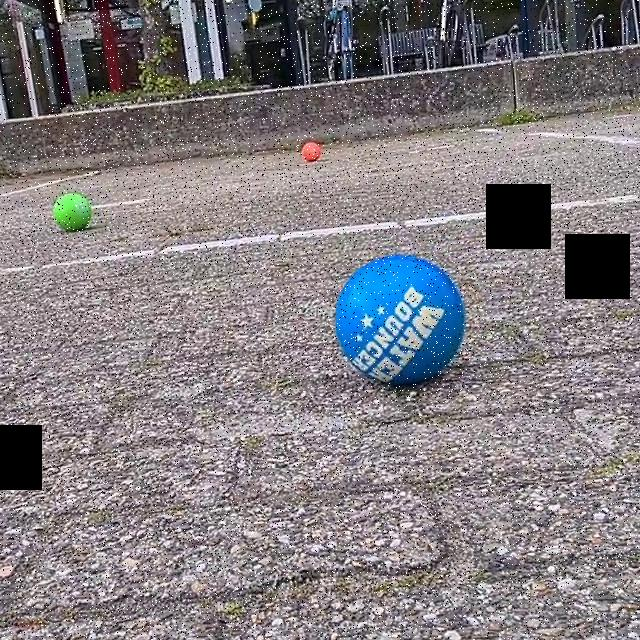ball: (50, 192, 95, 233), (299, 138, 322, 164)
